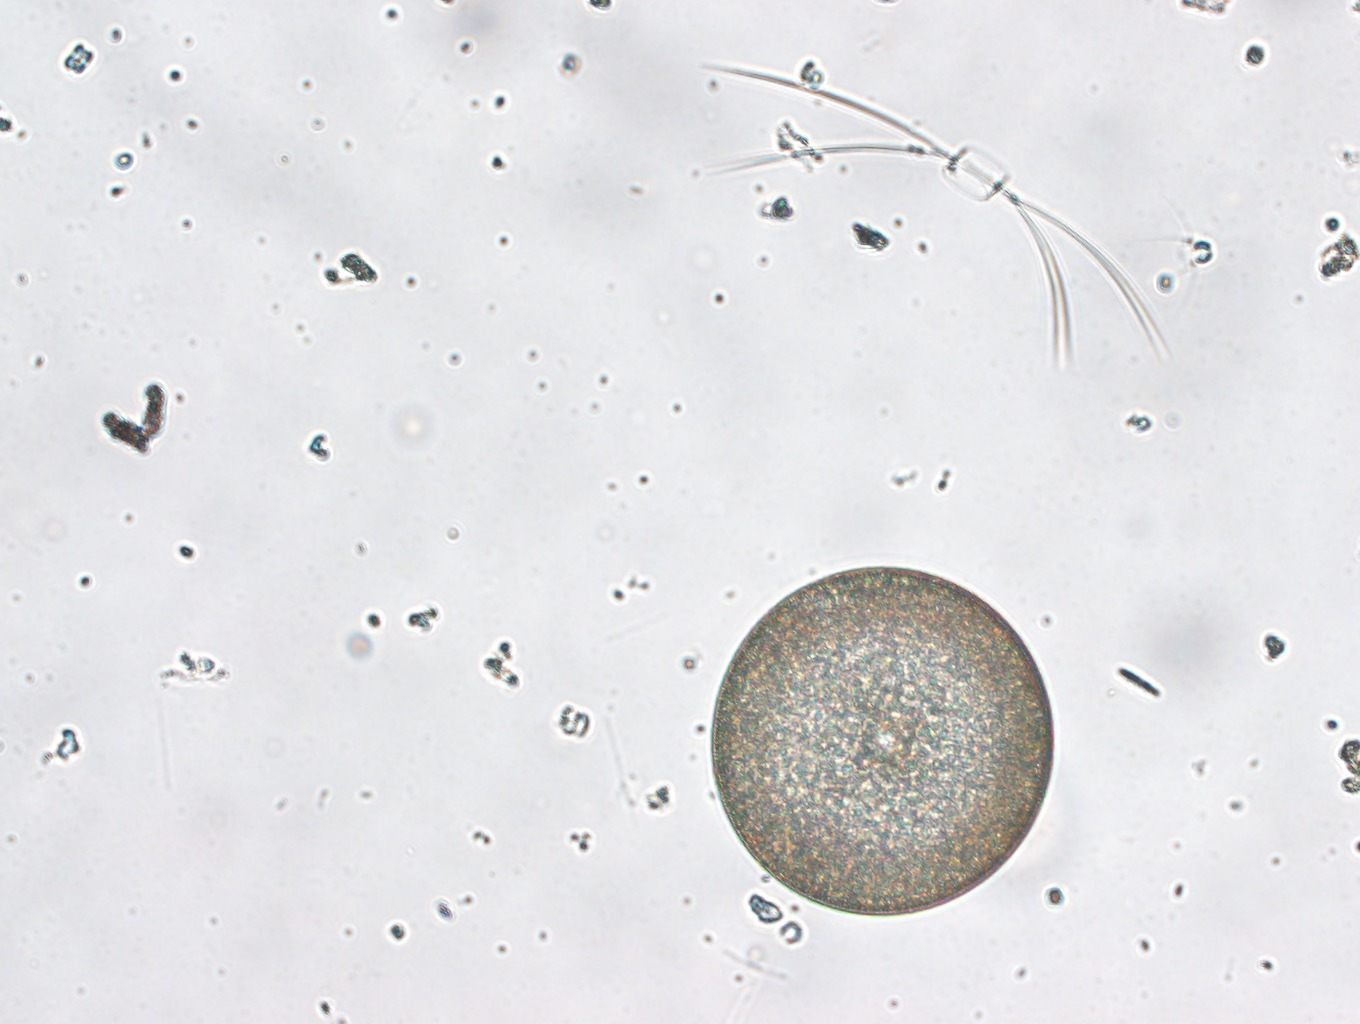chaetoceros: (698, 65, 1174, 375)
coscinodiscus: (711, 566, 1055, 916)
